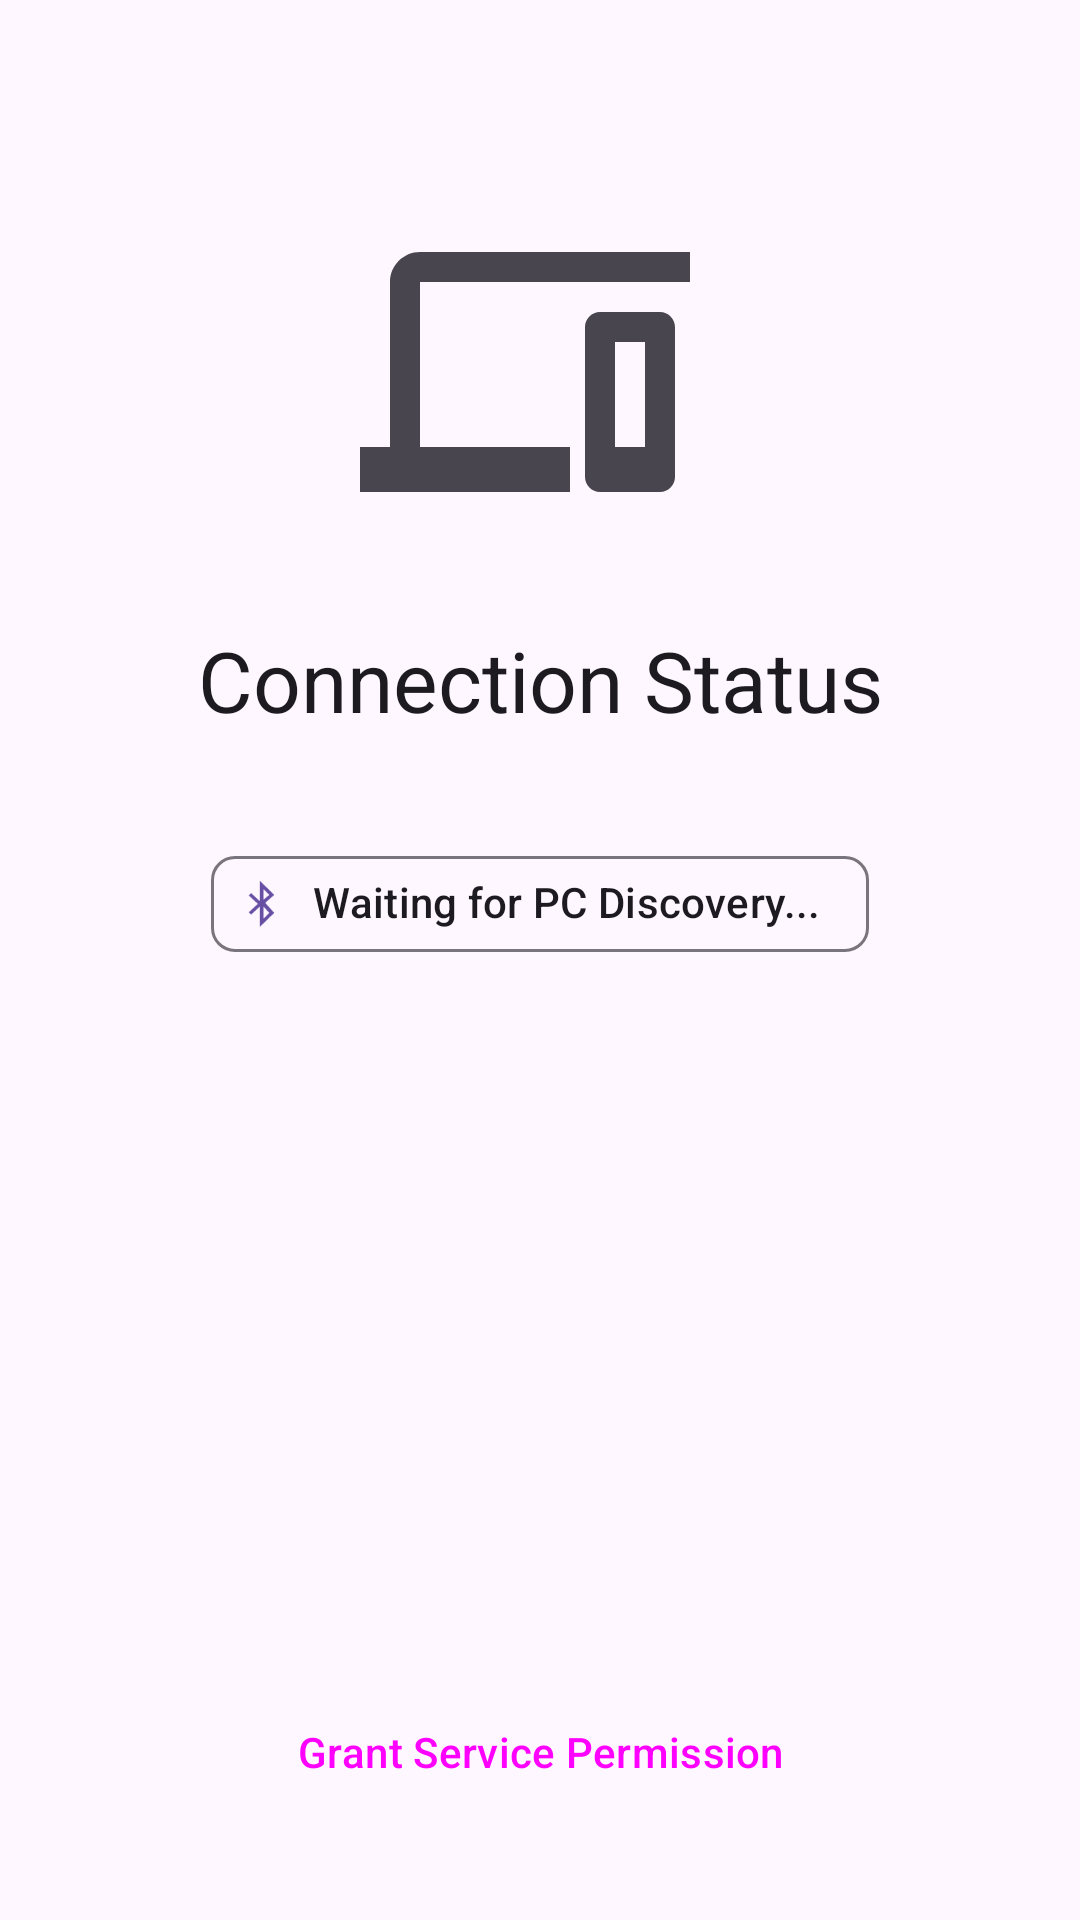

Icons on this 1080x1920 Android screen, each with the point to tap as point (x, y):
devices: point (525, 372)
